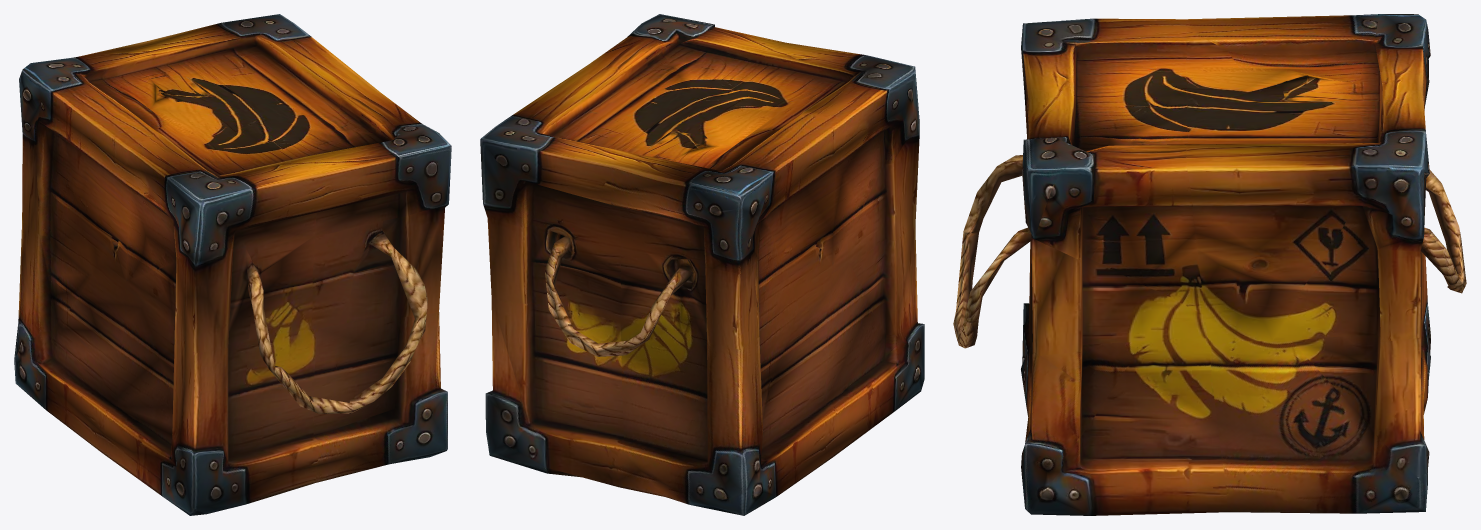
The model's file is export-crate-low.glb.
3 views of the same model, side by side, from view 1: azimuth 30°, elevation 25°; view 2: azimuth 150°, elevation 25°; view 3: azimuth 270°, elevation 25° (orthographic). The views are drawn at different scales.
Parts seen in each view (by area): view 1: tripo_node_9e7c31c9-1564-4843-b9ac-acd3d148b3d1; view 2: tripo_node_9e7c31c9-1564-4843-b9ac-acd3d148b3d1; view 3: tripo_node_9e7c31c9-1564-4843-b9ac-acd3d148b3d1.
Part boxes in pixels (left/top/right/bottom): tripo_node_9e7c31c9-1564-4843-b9ac-acd3d148b3d1: left=14, top=14, right=451, bottom=515; tripo_node_9e7c31c9-1564-4843-b9ac-acd3d148b3d1: left=480, top=14, right=924, bottom=515; tripo_node_9e7c31c9-1564-4843-b9ac-acd3d148b3d1: left=953, top=14, right=1466, bottom=515.
Bounding box in the file's own units: 0.6846 × 0.7926 × 0.9941.
1 material, 1 textured.
